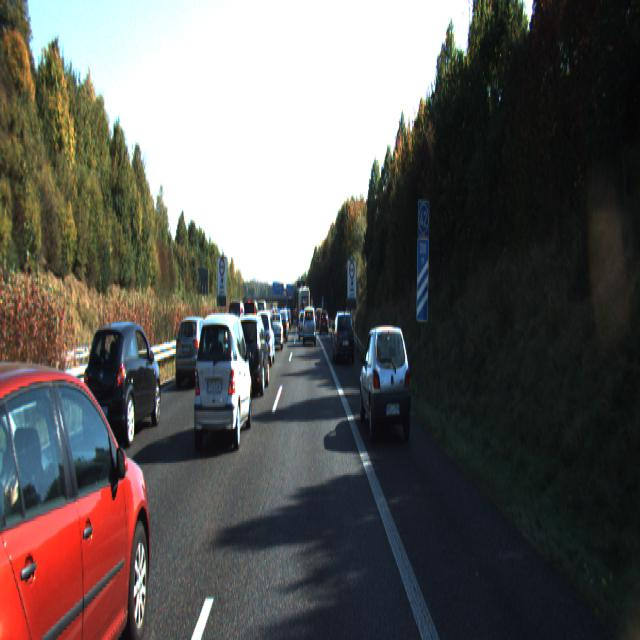Car: (0, 342, 158, 639), (80, 318, 162, 450), (191, 310, 253, 453), (359, 321, 413, 445), (232, 312, 270, 399), (175, 318, 214, 393), (209, 314, 235, 369), (332, 307, 354, 362), (228, 300, 247, 352), (242, 299, 261, 344), (269, 311, 284, 348), (304, 306, 316, 346), (320, 308, 328, 335)
